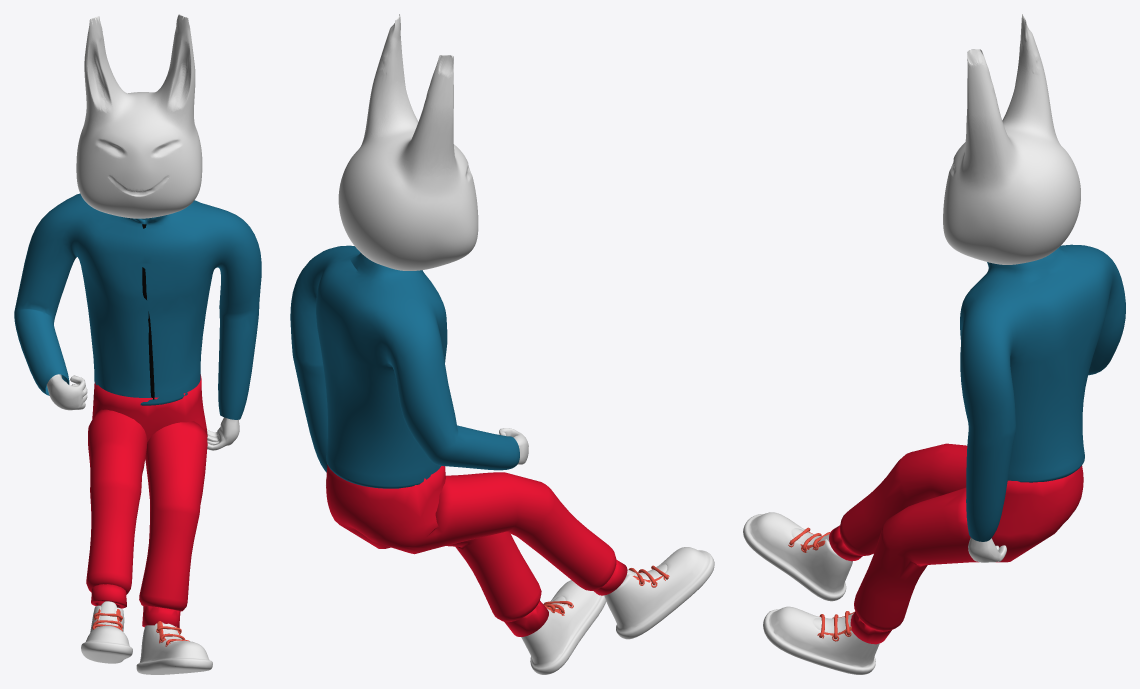
The model's file is rabbit.fbx.
3 renders of one model, left to right at view 1: azimuth 30°, elevation 25°; view 2: azimuth 150°, elevation 25°; view 3: azimuth 270°, elevation 25°, orthographic. The views are drawn at different scales.
Visible parts, largest first — view 1: Cube.014; view 2: Cube.014; view 3: Cube.014.
Part boxes in pixels (x1,y1,x2,y2): Cube.014: [14, 14, 261, 674]; Cube.014: [290, 14, 714, 674]; Cube.014: [743, 14, 1125, 674].
Bounding box in the file's own units: 310 × 658 × 343.
